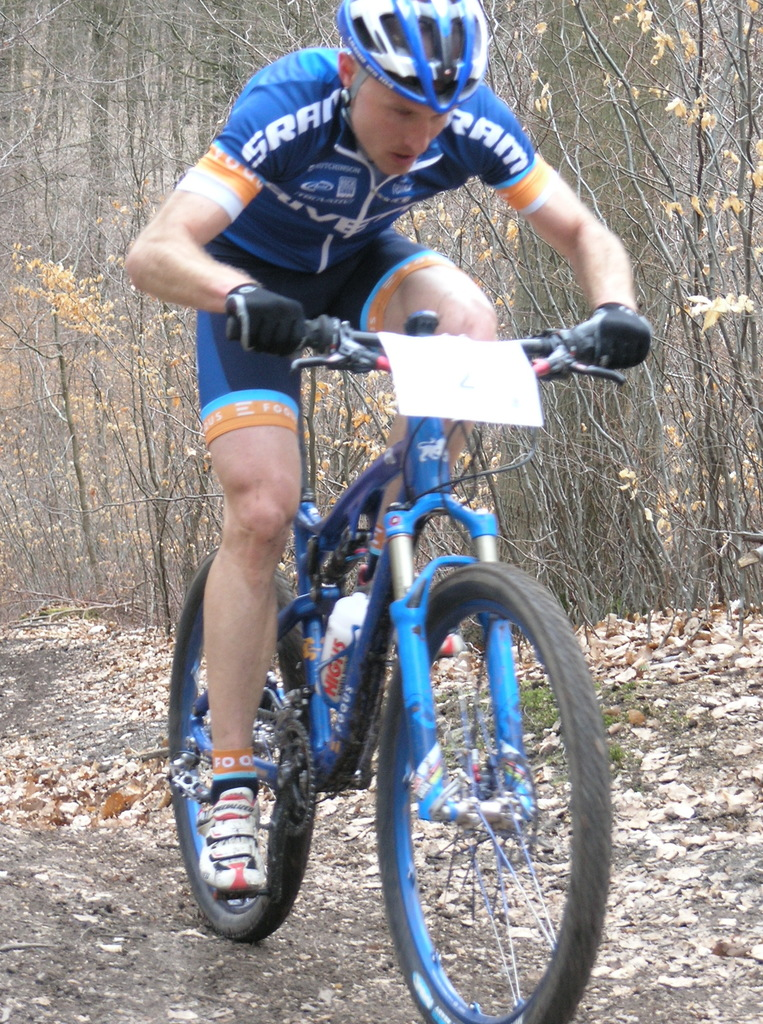Tree: (0, 0, 763, 605)
